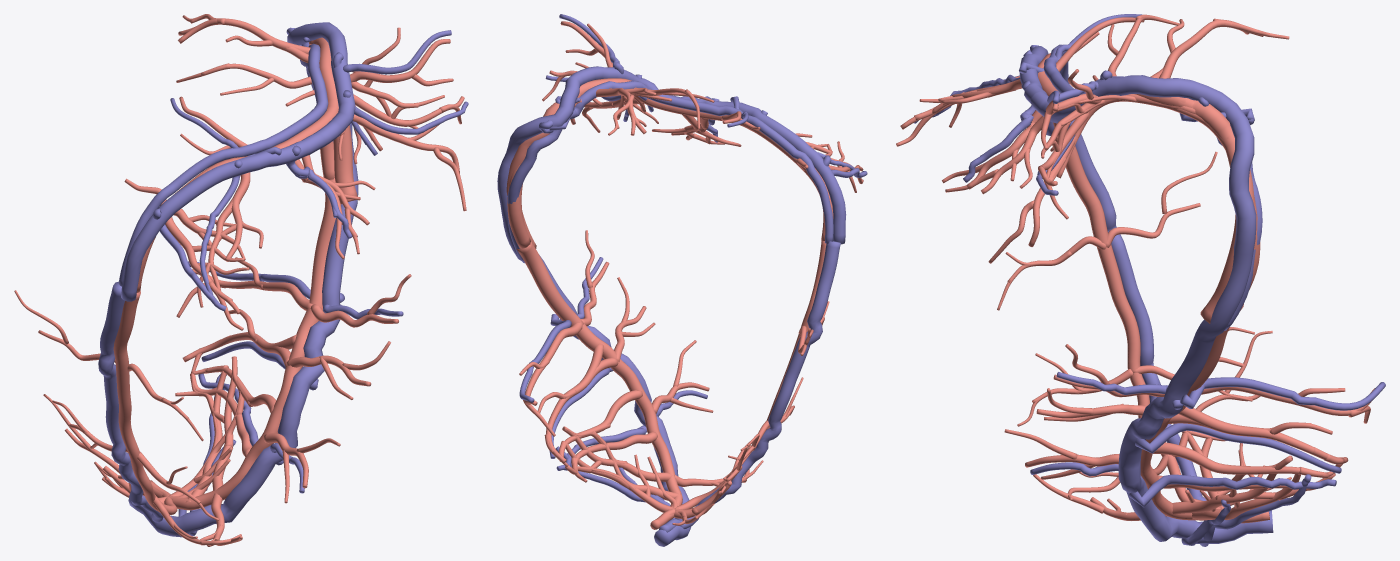
The model's file is vessels_27.glb.
3 renders of one model, left to right at view 1: azimuth 30°, elevation 25°; view 2: azimuth 150°, elevation 25°; view 3: azimuth 270°, elevation 25°, orthographic. The views are drawn at different scales.
Parts seen in each view (by area): view 1: Renderer Node; view 2: Renderer Node; view 3: Renderer Node.
Boxes of the visible parts, x1,y1,x2,y2 form: Renderer Node: (14,14,468,546); Renderer Node: (497,14,867,546); Renderer Node: (896,14,1385,546).
Bounding box in the file's own units: 93.75 × 120 × 94.16.
